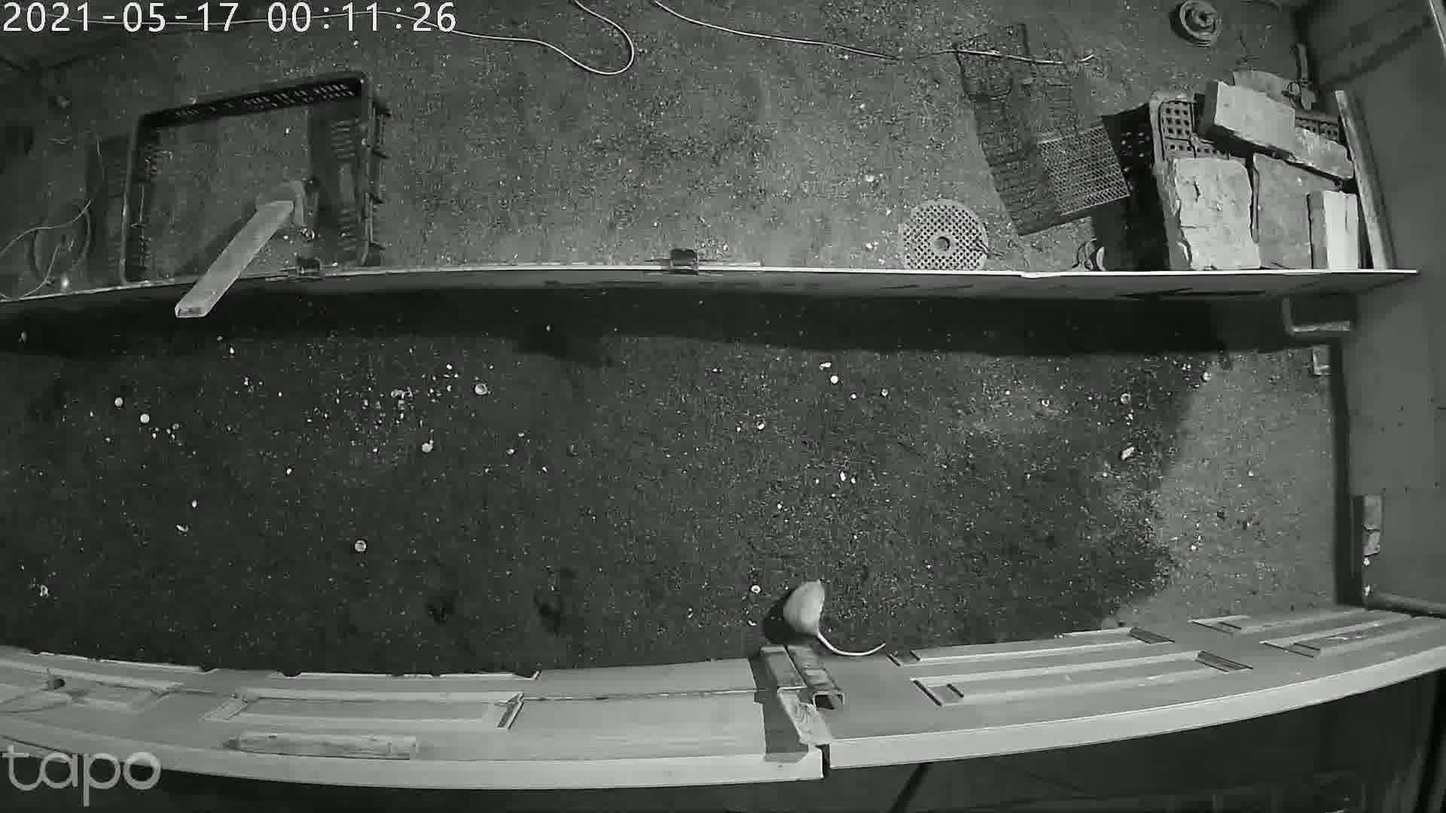rat: (775, 570, 895, 664)
